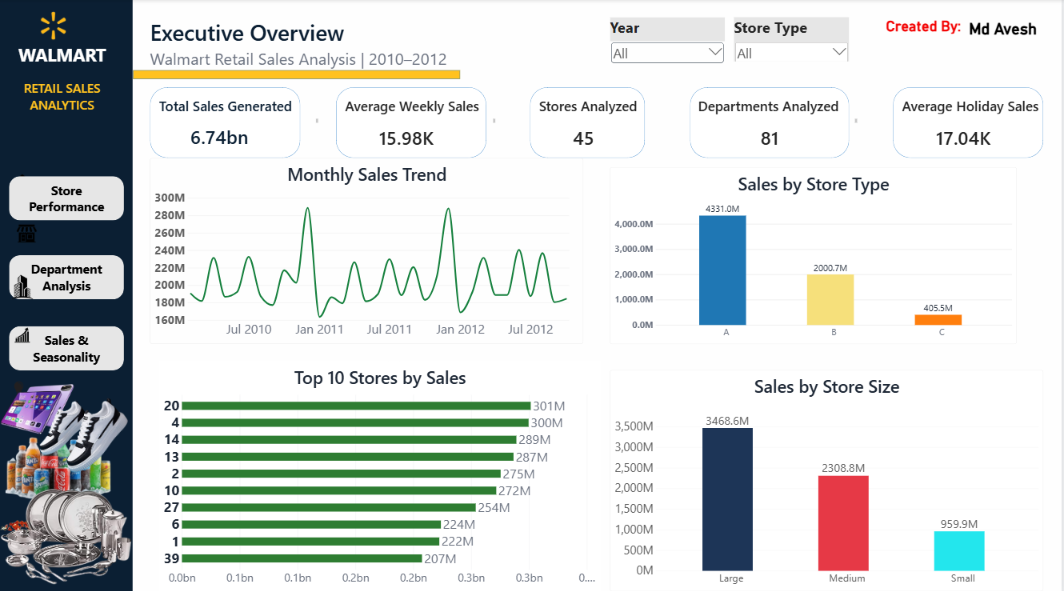

This screenshot's page, from the dashboard's own definition file:
{"tool":"powerbi","page":{"name":"Executive Overview","canvas":[3840,2160],"ordinal":0},"visuals":[{"type":"shape","box":[0,-16,480,2176],"z":0},{"type":"image","box":[64,0,256,192],"z":1000},{"type":"textbox","title":"WALMART","box":[64,160,320,96],"z":2000},{"type":"textbox","title":"RETAIL SALES ANALYTICS","box":[32,288,384,128],"z":3000},{"type":"image","box":[32,608,96,128],"z":5000},{"type":"actionButton","box":[32,640,416,160],"z":6000},{"type":"image","box":[32,800,128,96],"z":7000},{"type":"actionButton","box":[32,928,416,160],"z":8000},{"type":"image","box":[32,960,96,160],"z":9000},{"type":"actionButton","box":[32,1184,416,160],"z":10000},{"type":"image","box":[32,1184,96,64],"z":11000},{"type":"image","box":[0,1376,128,64],"z":13000},{"type":"textbox","title":"Executive Overview","box":[544,64,1184,192],"z":14000},{"type":"shape","box":[480,256,1184,32],"z":15000},{"type":"shape","box":[544,320,544,256],"z":16000},{"type":"textbox","title":"Total Sales Generated","box":[576,352,576,96],"z":17000},{"type":"cardVisual","fields":{"Data":["Walmart_Sales.Total Sales"]},"box":[672,416,256,160],"z":18000},{"type":"shape","box":[1216,320,544,256],"z":19000},{"type":"textbox","title":"Average Weekly Sales","box":[1248,352,544,96],"z":20000},{"type":"cardVisual","fields":{"Data":["Walmart_Sales.Average Weekly Sales"]},"box":[1344,448,256,96],"z":21000},{"type":"shape","box":[1920,320,416,256],"z":22000},{"type":"textbox","title":"Stores Analyzed","box":[1952,352,416,64],"z":23000},{"type":"cardVisual","fields":{"Data":["Walmart_Sales.Total Stores"]},"box":[2048,448,128,96],"z":24000},{"type":"shape","box":[2496,320,576,256],"z":25000},{"type":"textbox","title":"Departments Analyzed","box":[2528,352,576,96],"z":26000},{"type":"cardVisual","fields":{"Data":["Walmart_Sales.Total Departments"]},"box":[2720,448,128,96],"z":27000},{"type":"shape","box":[3232,320,544,256],"z":28000},{"type":"textbox","title":"Average Holiday Sales","box":[3264,352,544,64],"z":29000},{"type":"cardVisual","fields":{"Data":["Walmart_Sales.Average Holiday Sales"]},"box":[3360,448,256,96],"z":30000},{"type":"lineChart","title":"Monthly Sales Trend","fields":{"Y":["Walmart_Sales.Total Sales"],"Category":["DateTable.Year Month Date"]},"box":[544,576,1568,672],"z":31000},{"type":"clusteredColumnChart","title":"Sales by Store Type","fields":{"Category":["Walmart_Sales.type"],"Y":["Walmart_Sales.Total Sales"]},"box":[2208,608,1472,640],"z":32000},{"type":"clusteredBarChart","title":"Top 10 Stores by Sales","fields":{"Category":["Walmart_Sales.store"],"Y":["Walmart_Sales.Store Total Sales"]},"box":[576,1312,1600,832],"z":33000},{"type":"textbox","title":"Created By:","box":[3206.7,65.1,333,141.2],"z":34000},{"type":"textbox","title":"Md Avesh","box":[3507.1,72.4,275.1,133.9],"z":35000},{"type":"image","box":[0,1568,430.7,260.6],"z":36000},{"type":"image","box":[0,1248,271.4,441.6],"z":37000},{"type":"image","box":[128,1408,354.7,304],"z":38000},{"type":"image","box":[0,1744,480,416],"z":39000},{"type":"slicer","title":"Year","fields":{"Values":["DateTable.Year"]},"box":[2208,64,416,192],"z":40000},{"type":"slicer","title":"Store Type","fields":{"Values":["Walmart_Sales.type"]},"box":[2656,64,416,160],"z":41000},{"type":"clusteredColumnChart","title":"Sales by Store Size","fields":{"Y":["Walmart_Sales.Store Total Sales"],"Category":["Walmart_Sales.Store Size Category"]},"box":[2208,1344,1568,800],"z":42000}]}

Visuals, with their boxes in screenshot pixels (x1, y1, x2, y2), scaled from the page's 3840x2160 canvas onto the 1064x591 screenshot:
shape: <region>0, 0, 133, 590</region>
image: <region>18, 0, 89, 53</region>
"WALMART" textbox: <region>18, 44, 106, 70</region>
"RETAIL SALES ANALYTICS" textbox: <region>9, 79, 115, 114</region>
image: <region>9, 166, 35, 201</region>
actionButton: <region>9, 175, 124, 219</region>
image: <region>9, 219, 44, 245</region>
actionButton: <region>9, 254, 124, 298</region>
image: <region>9, 263, 35, 306</region>
actionButton: <region>9, 324, 124, 368</region>
image: <region>9, 324, 35, 341</region>
image: <region>0, 376, 35, 394</region>
"Executive Overview" textbox: <region>151, 18, 479, 70</region>
shape: <region>133, 70, 461, 79</region>
shape: <region>151, 88, 301, 158</region>
"Total Sales Generated" textbox: <region>160, 96, 319, 123</region>
cardVisual - Walmart_Sales.Total Sales: <region>186, 114, 257, 158</region>
shape: <region>337, 88, 488, 158</region>
"Average Weekly Sales" textbox: <region>346, 96, 497, 123</region>
cardVisual - Walmart_Sales.Average Weekly Sales: <region>372, 123, 443, 149</region>
shape: <region>532, 88, 647, 158</region>
"Stores Analyzed" textbox: <region>541, 96, 656, 114</region>
cardVisual - Walmart_Sales.Total Stores: <region>567, 123, 603, 149</region>
shape: <region>692, 88, 851, 158</region>
"Departments Analyzed" textbox: <region>700, 96, 860, 123</region>
cardVisual - Walmart_Sales.Total Departments: <region>754, 123, 789, 149</region>
shape: <region>896, 88, 1046, 158</region>
"Average Holiday Sales" textbox: <region>904, 96, 1055, 114</region>
cardVisual - Walmart_Sales.Average Holiday Sales: <region>931, 123, 1002, 149</region>
"Monthly Sales Trend" lineChart: <region>151, 158, 585, 341</region>
"Sales by Store Type" clusteredColumnChart: <region>612, 166, 1020, 341</region>
"Top 10 Stores by Sales" clusteredBarChart: <region>160, 359, 603, 587</region>
"Created By:" textbox: <region>889, 18, 981, 56</region>
"Md Avesh" textbox: <region>972, 20, 1048, 56</region>
image: <region>0, 429, 119, 500</region>
image: <region>0, 341, 75, 462</region>
image: <region>35, 385, 134, 468</region>
image: <region>0, 477, 133, 590</region>
"Year" slicer: <region>612, 18, 727, 70</region>
"Store Type" slicer: <region>736, 18, 851, 61</region>
"Sales by Store Size" clusteredColumnChart: <region>612, 368, 1046, 587</region>
